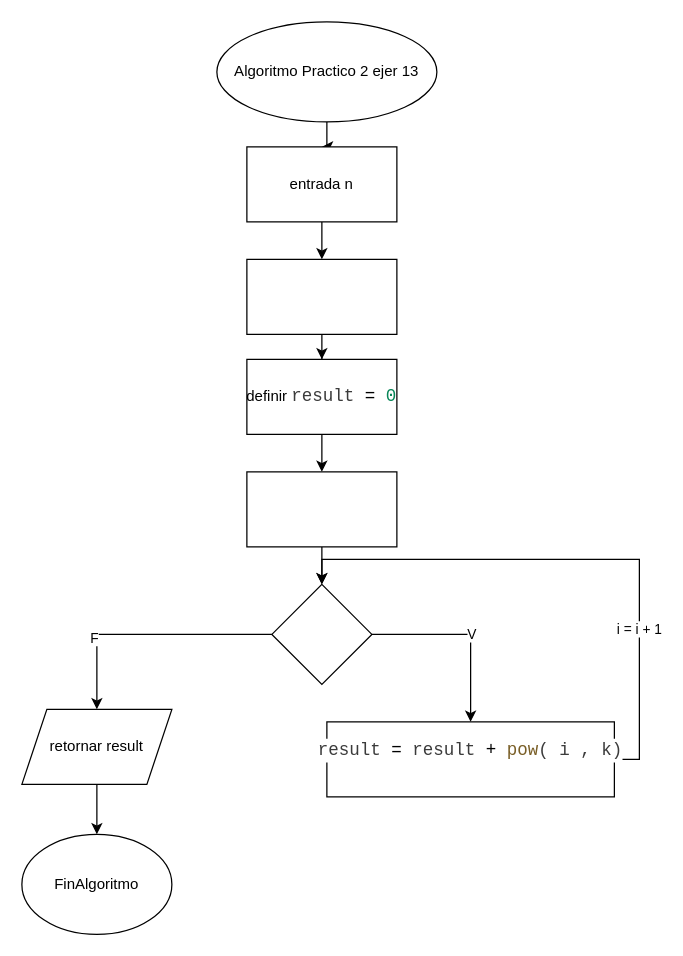
This 683x956 diagram has some shape labels left out. The centre of each missing label's shape, as x and y in pixels:
"definir i = 1" belongs at [321,509].
"entrada k" belongs at [321,296].
"i <= n" belongs at [321,633].
